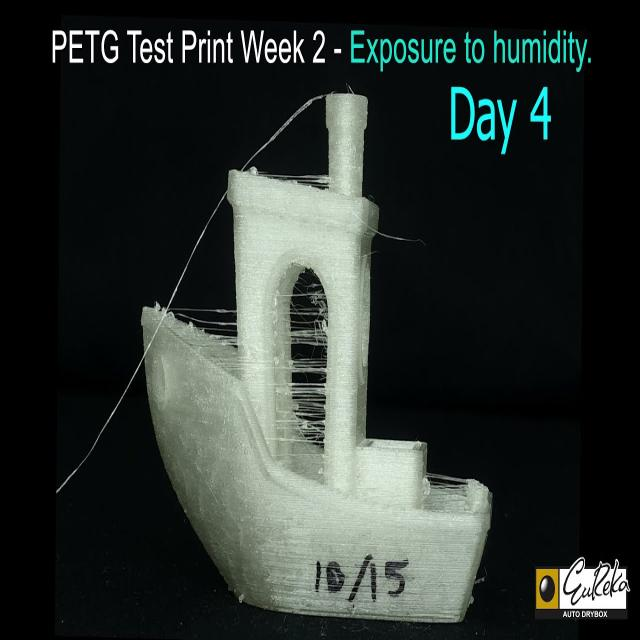Stringing: (280, 300, 330, 463)
